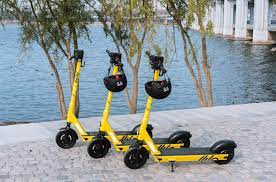kick_board: (125, 50, 238, 169)
kick_body: (160, 147, 211, 160), (88, 131, 134, 140), (122, 139, 170, 147)
kick_handler: (146, 51, 167, 73), (106, 51, 124, 66), (69, 48, 83, 60)
kick_neck: (140, 71, 157, 136), (101, 66, 117, 129), (68, 63, 81, 122)
kick_wheel: (124, 146, 147, 169), (213, 140, 234, 165), (89, 136, 109, 159), (56, 127, 76, 149), (170, 132, 190, 148)
